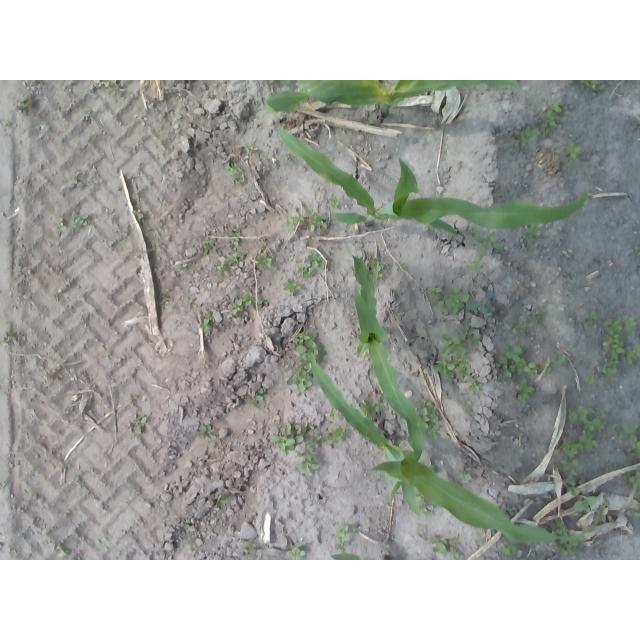Maize: (307, 349, 606, 543), (268, 120, 589, 239), (341, 242, 427, 502), (263, 80, 540, 122), (330, 553, 389, 560)
Weeds: (554, 405, 606, 459), (596, 316, 640, 379), (287, 332, 326, 392), (426, 284, 470, 314), (441, 324, 482, 356), (414, 398, 443, 443), (496, 345, 538, 376), (268, 424, 304, 457), (551, 517, 580, 555), (433, 356, 472, 381), (614, 422, 640, 459), (306, 424, 346, 448), (567, 485, 598, 513), (540, 100, 564, 136), (411, 485, 437, 516), (297, 251, 325, 278), (467, 288, 495, 314), (367, 249, 386, 280), (476, 232, 504, 253), (353, 399, 383, 418), (513, 378, 534, 405), (559, 459, 580, 486), (304, 204, 324, 232), (224, 159, 245, 185), (92, 80, 124, 97), (229, 292, 251, 316), (517, 125, 540, 147), (282, 213, 305, 235), (562, 141, 583, 164), (296, 455, 321, 474), (67, 211, 89, 230), (430, 536, 450, 556), (417, 457, 439, 475), (335, 523, 357, 541), (49, 540, 71, 558), (627, 467, 640, 497), (520, 223, 540, 242), (282, 277, 302, 296), (527, 306, 545, 327), (577, 81, 607, 92), (199, 309, 214, 331), (255, 252, 273, 270), (208, 493, 229, 508), (227, 227, 242, 248), (226, 252, 246, 267), (286, 546, 307, 560), (457, 466, 474, 483), (468, 253, 484, 271), (450, 536, 462, 560), (239, 538, 257, 554), (501, 541, 520, 556), (250, 386, 266, 403), (16, 97, 30, 116), (202, 238, 219, 253), (467, 376, 482, 392), (512, 321, 529, 335), (585, 311, 599, 326), (466, 225, 481, 239), (133, 417, 147, 432), (552, 354, 569, 366), (623, 507, 640, 519), (539, 360, 551, 376), (242, 143, 259, 154), (197, 424, 211, 437), (462, 397, 474, 412), (329, 194, 343, 206), (326, 408, 338, 421), (132, 209, 144, 222), (175, 263, 189, 274), (57, 217, 67, 232), (584, 372, 596, 384), (216, 261, 226, 275), (3, 331, 17, 341), (79, 104, 94, 113), (265, 80, 290, 85), (396, 261, 408, 271), (365, 115, 377, 125), (286, 151, 295, 162), (188, 297, 197, 306), (161, 297, 171, 304), (0, 119, 10, 126), (256, 298, 264, 306), (183, 523, 192, 529), (250, 503, 259, 509), (634, 242, 640, 250)
